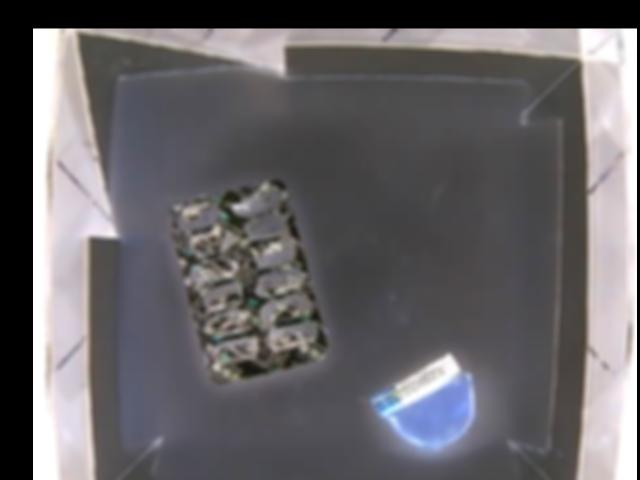Battery: (365, 355, 457, 415)
Medicine: (166, 180, 329, 385)
Potato: (389, 375, 473, 446)
